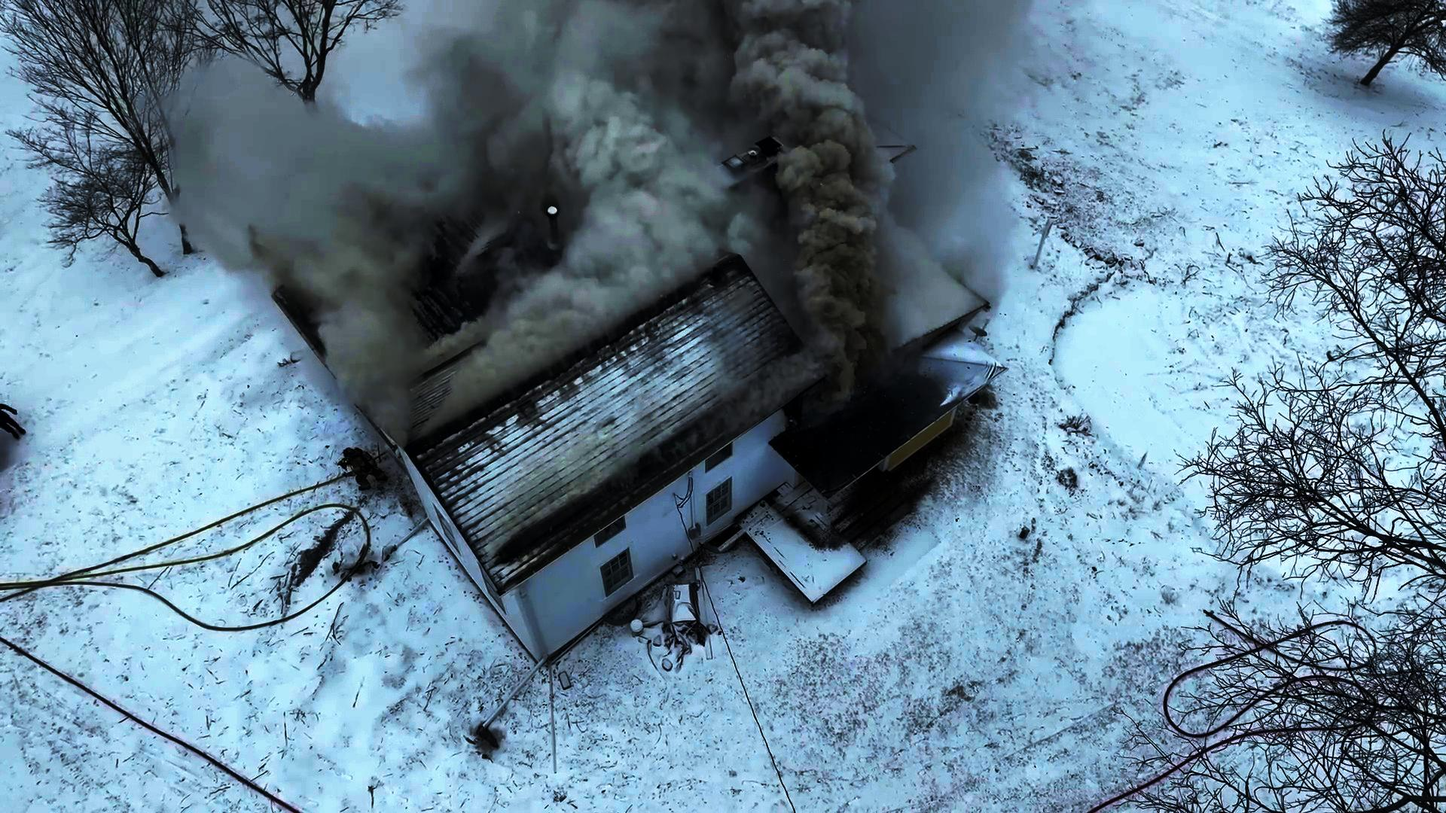smoke: (774, 132, 889, 420)
